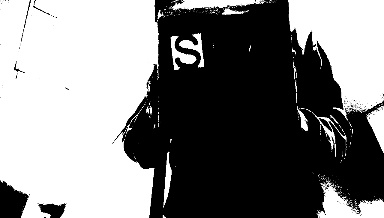S: (170, 33, 205, 69)
